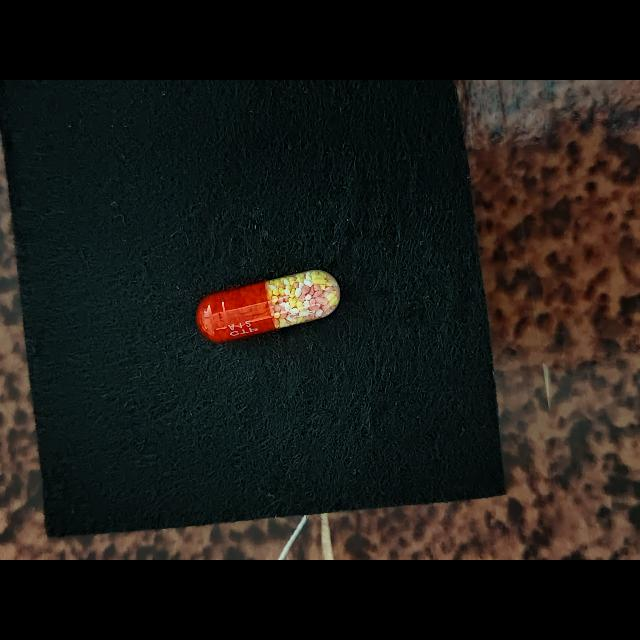Intact Capsule: (197, 270, 340, 343)
